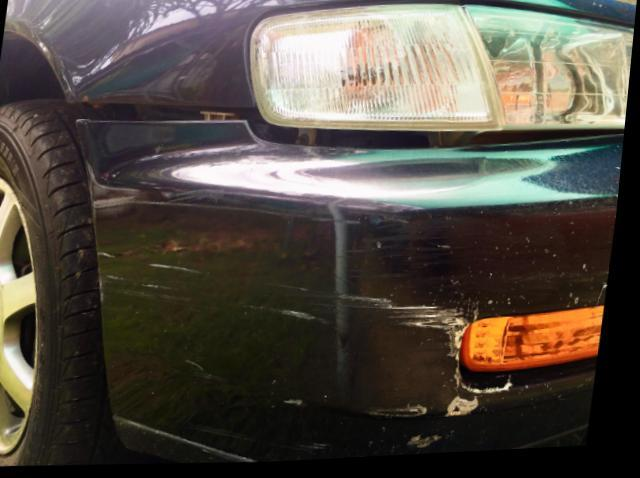rub: (105, 251, 490, 455)
